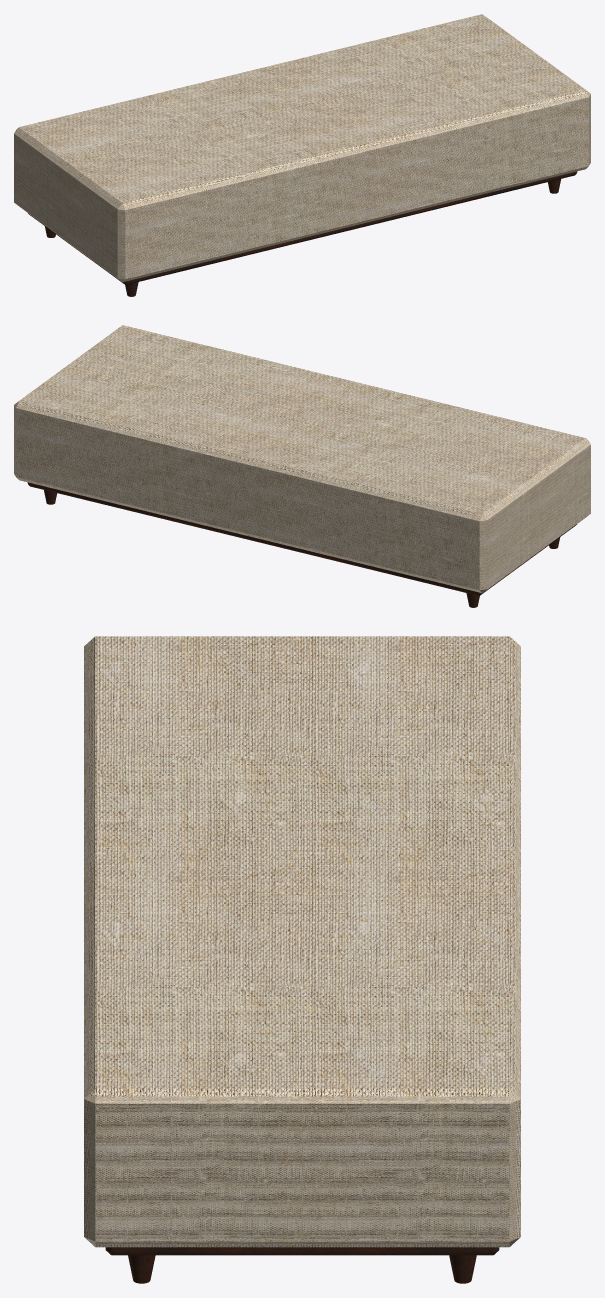
The model's file is Banco.FBX.
3 views of the same model, one above another, from view 1: azimuth 30°, elevation 25°; view 2: azimuth 150°, elevation 25°; view 3: azimuth 270°, elevation 25° (orthographic). The views are drawn at different scales.
Parts seen in each view (by area): view 1: Box005, Box004; view 2: Box005, Box004; view 3: Box005, Box004.
Boxes of the visible parts, box(x1,y1,x2,y2) form: Box005: box(14, 14, 590, 282); Box004: box(28, 171, 577, 284); Box005: box(14, 325, 590, 593); Box004: box(27, 482, 577, 595); Box005: box(84, 636, 520, 1247); Box004: box(105, 1247, 499, 1255).
Size of the model in its own units: 98.43 by 20.98 by 39.37.
2 materials, 2 textured.
